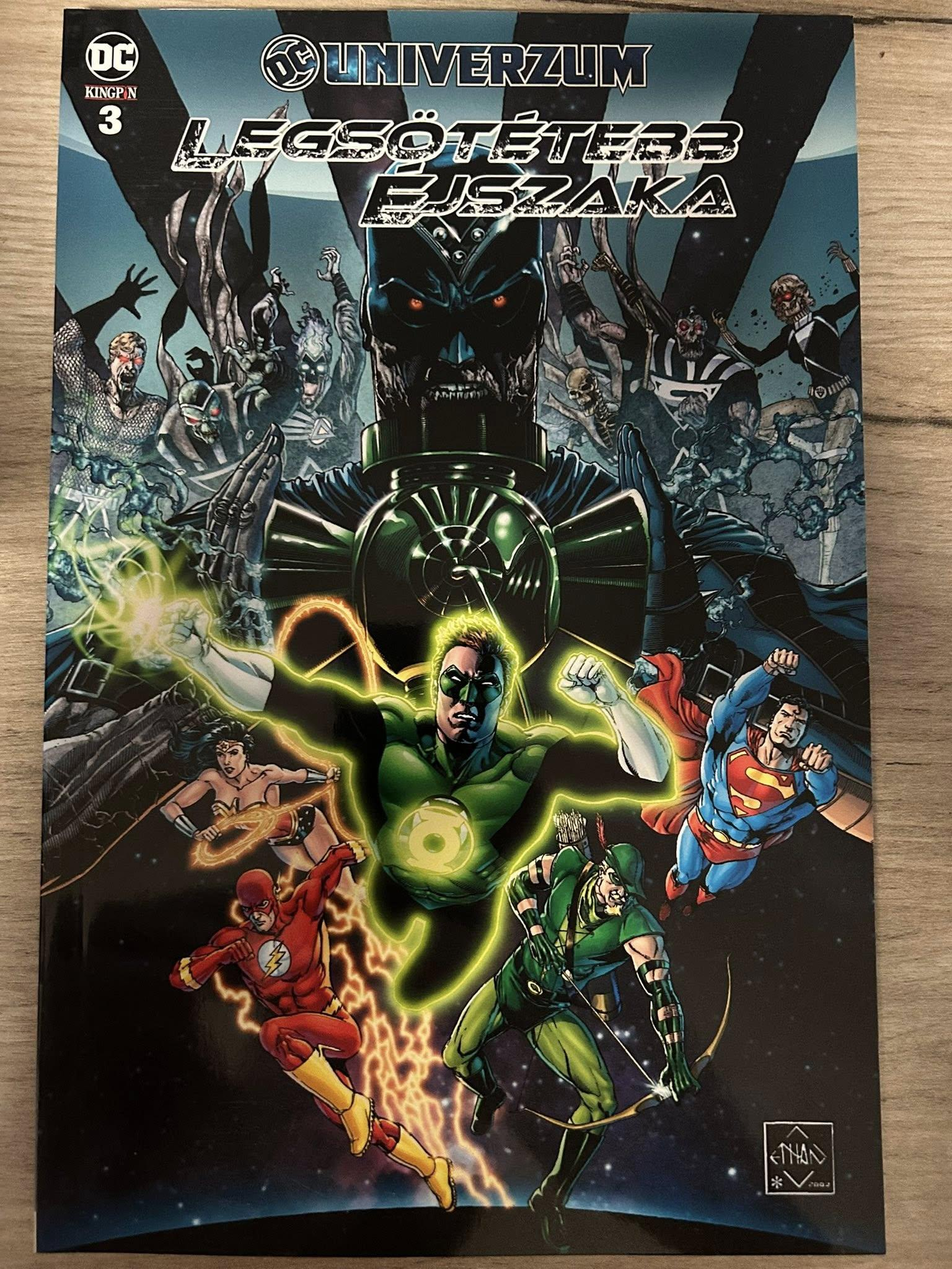comic: (37, 9, 886, 1258)
